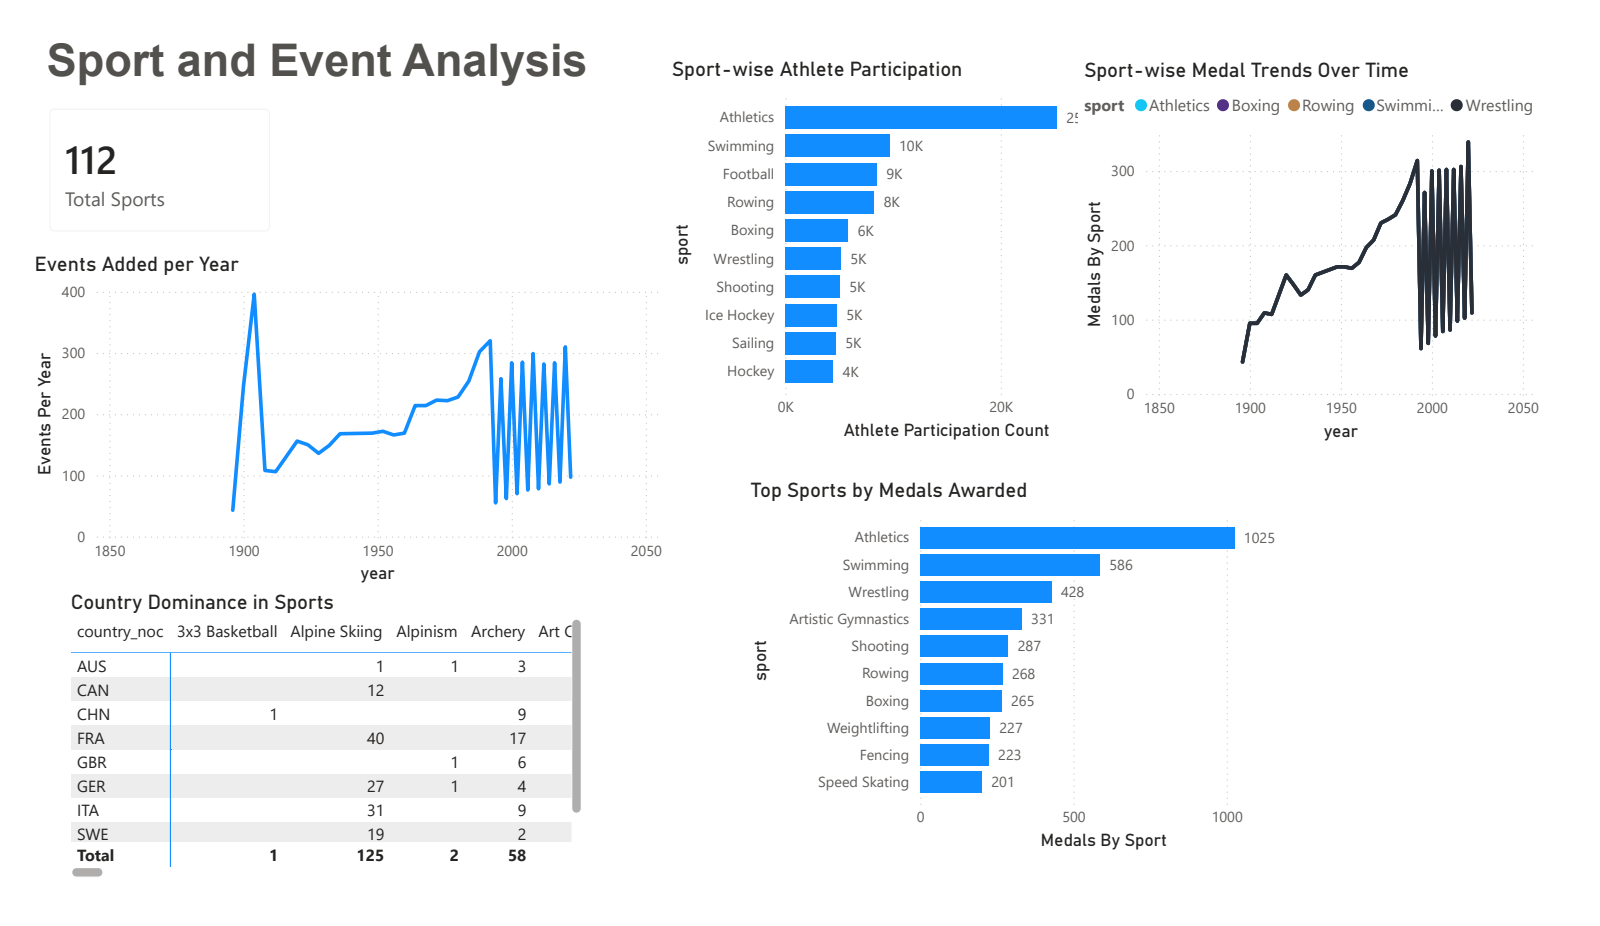

Layout of this report page (visuals, bound fields, positions):
{"tool":"powerbi","page":{"name":"Sport and Event Analysis","canvas":[1280,720],"ordinal":3},"visuals":[{"type":"textbox","box":[9.6,0,499.5,279.9],"z":0},{"type":"cardVisual","fields":{"Data":["olympic_results.Total Sports"]},"box":[0,49.4,216.8,135.8],"z":1000},{"type":"lineChart","title":"Events Added per Year","fields":{"Category":["games.year"],"Y":["olympic_results.Events Per Year"]},"box":[0,185.2,529.7,279.9],"z":2000},{"type":"clusteredBarChart","title":"Top Sports by Medals Awarded","fields":{"Category":["olympic_athlete_event_result.sport"],"Y":["olympic_athlete_event_result.Medals By Sport"]},"box":[594.3,371.7,462.2,314.3],"z":3000},{"type":"pivotTable","title":"Country Dominance in Sports","fields":{"Rows":["olympic_athlete_event_result.country_noc"],"Columns":["olympic_athlete_event_result.sport"],"Values":["olympic_athlete_event_result.Medals By Sport"]},"box":[30.2,465.2,433.6,244.3],"z":4000},{"type":"clusteredBarChart","title":"Sport-wise Athlete Participation","fields":{"Category":["olympic_athlete_event_result.sport"],"Y":["olympic_athlete_event_result.Athlete Participation Count"]},"box":[529.5,23.2,381.5,322.8],"z":5000},{"type":"lineChart","title":"Sport-wise Medal Trends Over Time","fields":{"Y":["olympic_athlete_event_result.Medals By Sport"],"Category":["games.year"],"Series":["olympic_results.sport"]},"box":[870.7,24.5,387.6,321.6],"z":6000}]}

Visuals, with their boxes in screenshot pixels (x1, y1, x2, y2), scaled from the page's 1280x720 canvas onto the 1600x926 screenshot:
textbox: box(12, 0, 636, 360)
cardVisual - olympic_results.Total Sports: box(0, 64, 271, 238)
"Events Added per Year" lineChart: box(0, 238, 662, 598)
"Top Sports by Medals Awarded" clusteredBarChart: box(743, 478, 1321, 882)
"Country Dominance in Sports" pivotTable: box(38, 598, 580, 912)
"Sport-wise Athlete Participation" clusteredBarChart: box(662, 30, 1139, 445)
"Sport-wise Medal Trends Over Time" lineChart: box(1088, 32, 1573, 445)
